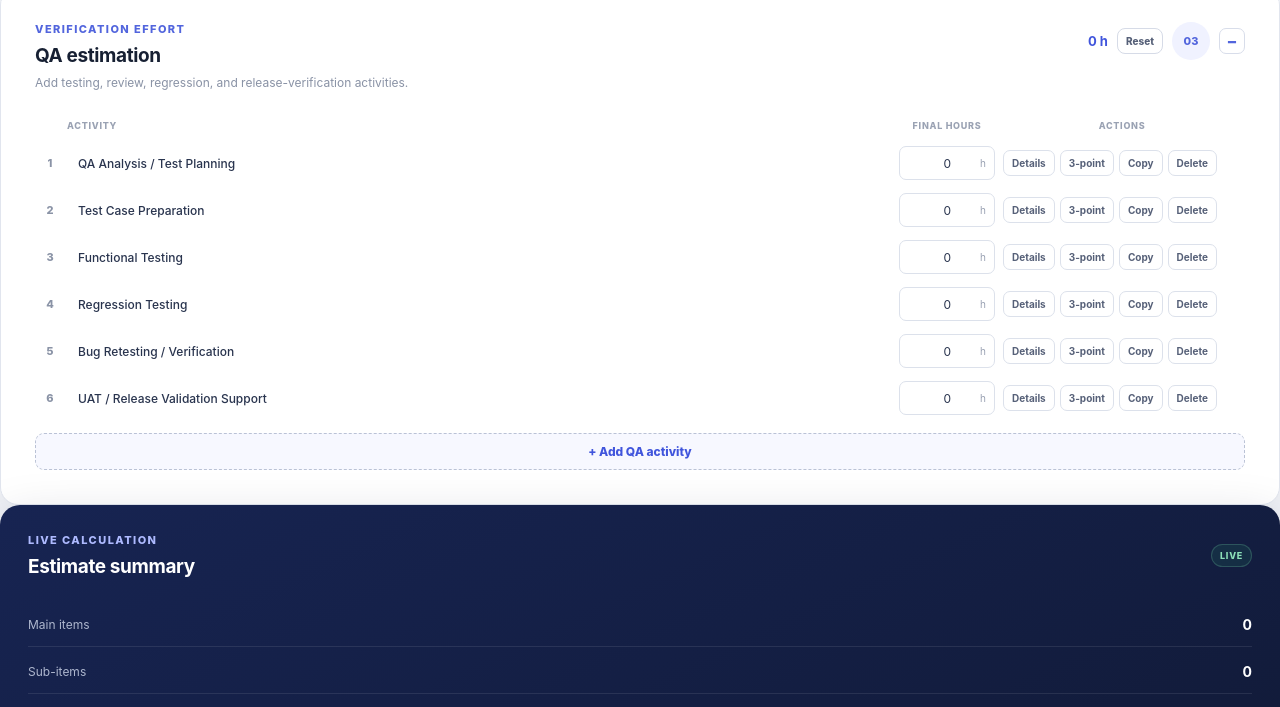
QaEstimationPanel › shows the legacy defaults and edits decimal QA effort without losing input focus
Replace the text in the field named "QA activity 1 name" with "Regression testing" at (480, 163), box [69,146,891,180]
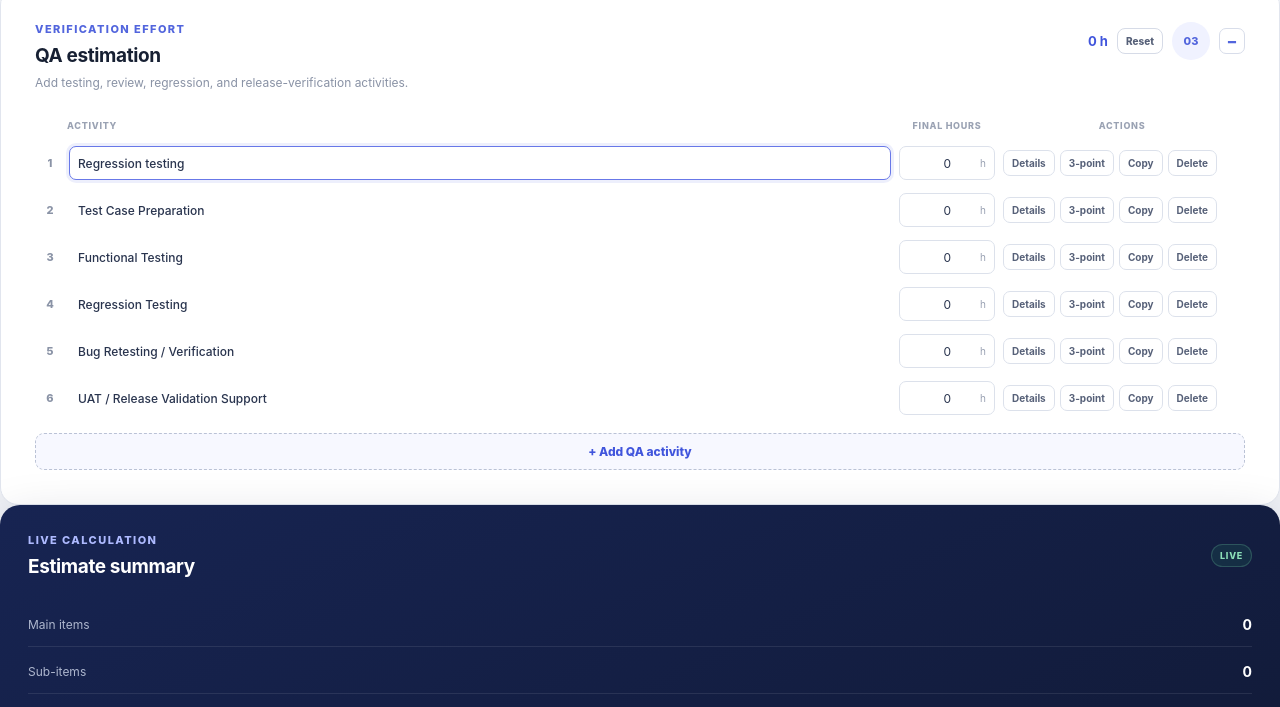
Replace the text in the number field named "QA activity 1 hours" with "7.5" at (947, 163), box [899,146,995,180]
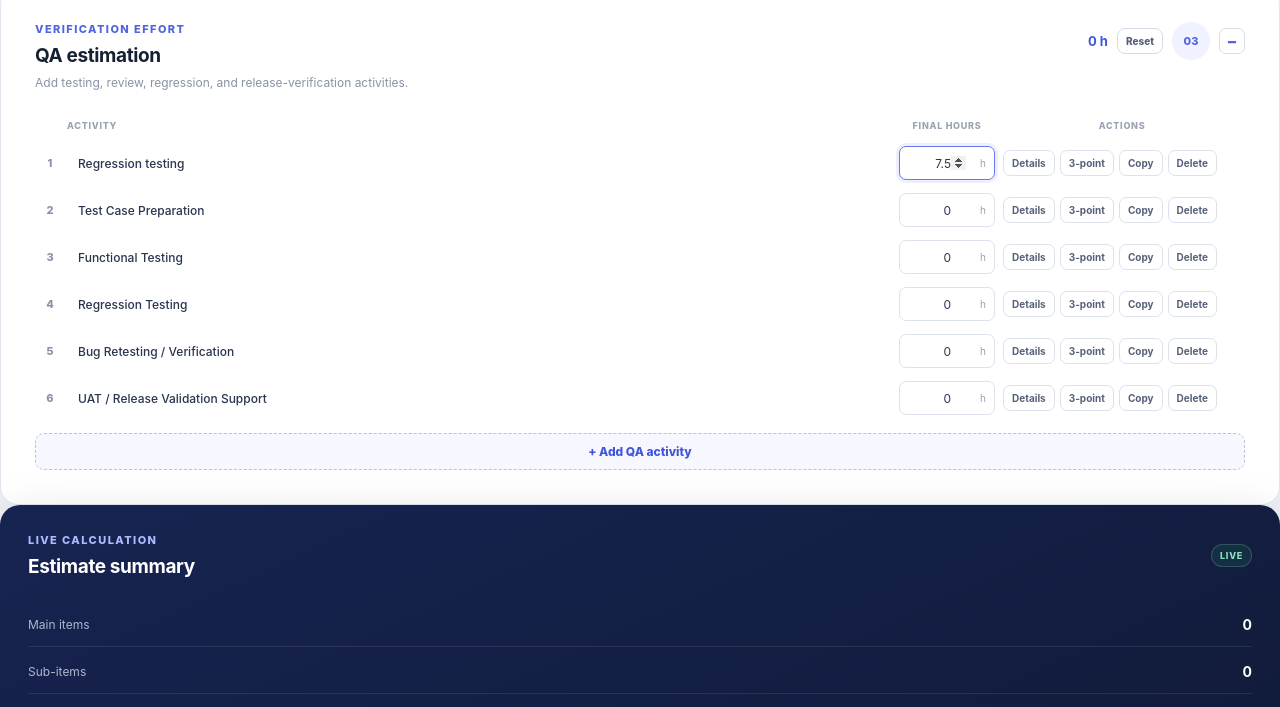
Press Tab
(page scrolled)
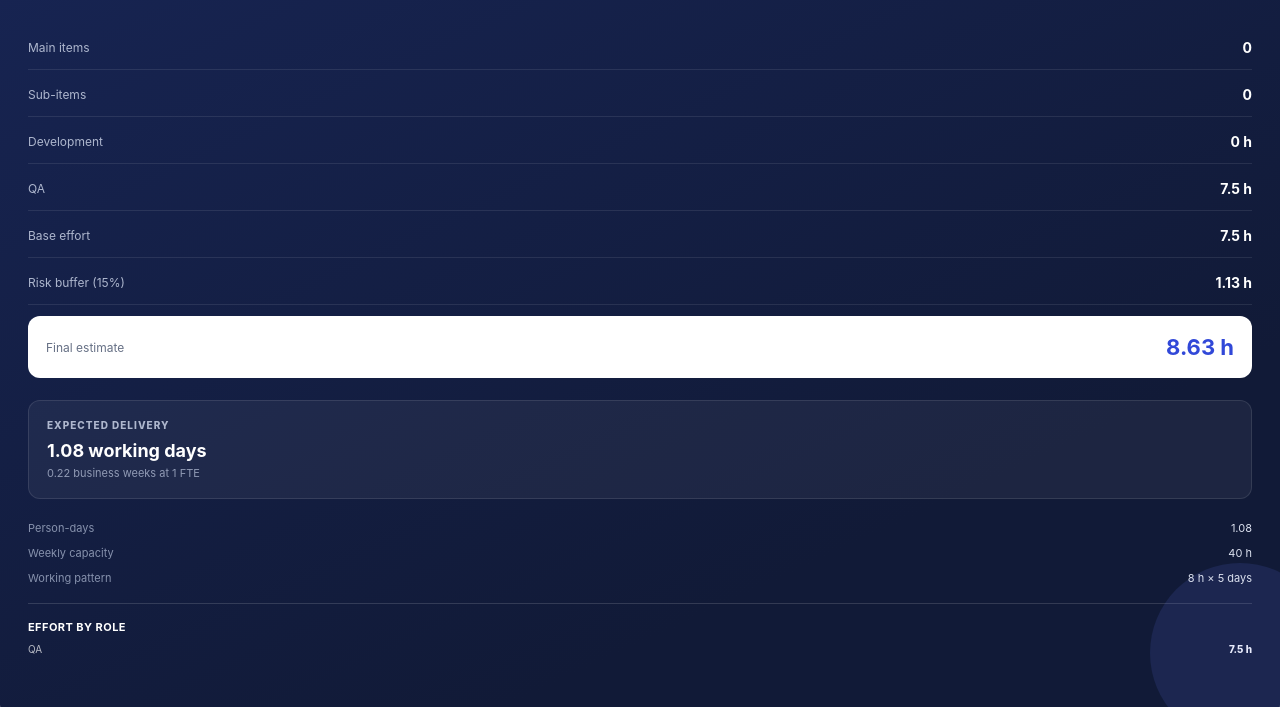
Expected: the text "8.63 h" is shown, [1166,334,1234,360]
